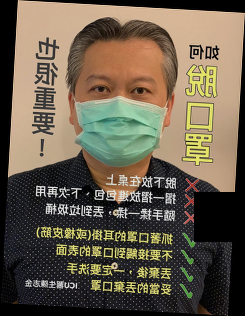with_mask: (75, 71, 166, 169)
